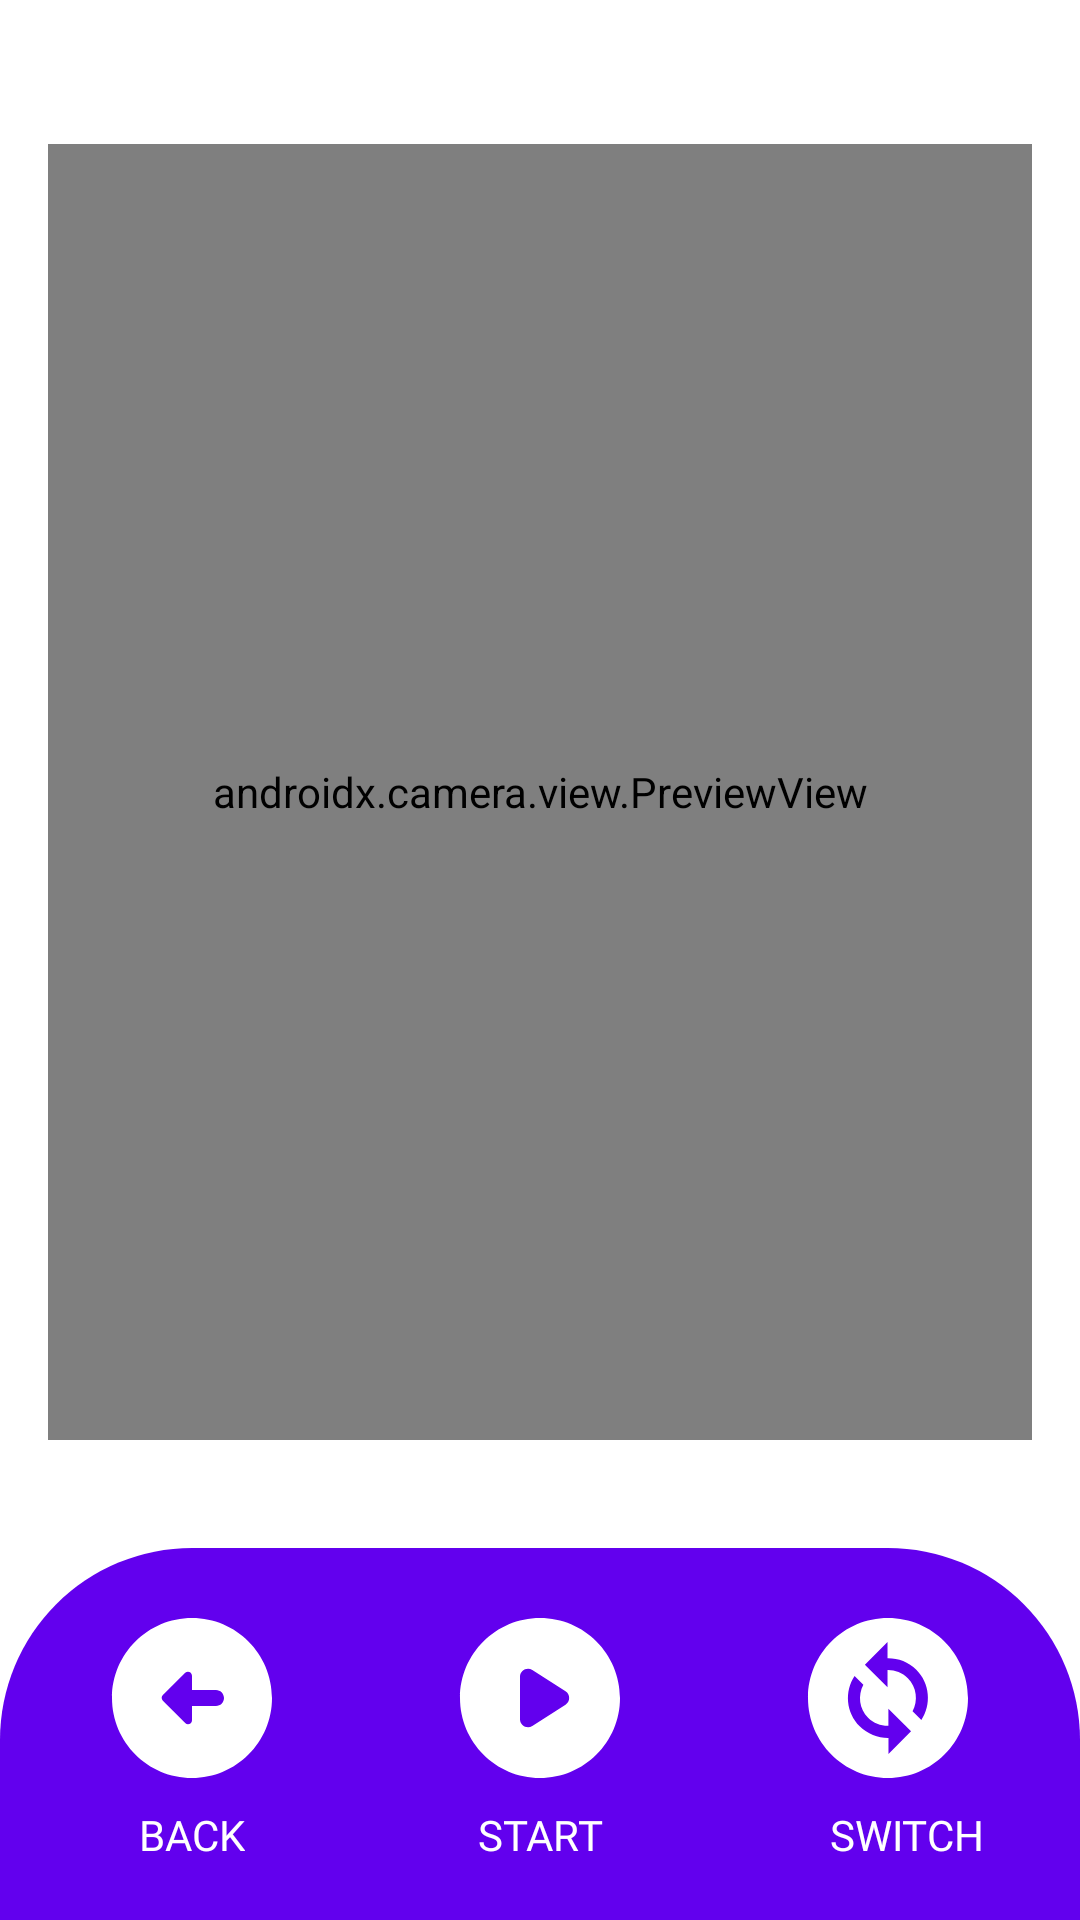

Where icons sit on this 1080px x 1920px app screen, as Rect(x1, y1, x2, y2):
arrow circle left: Rect(111, 1618, 272, 1778)
change circle: Rect(808, 1618, 968, 1778)
play circle: Rect(460, 1618, 620, 1778)
